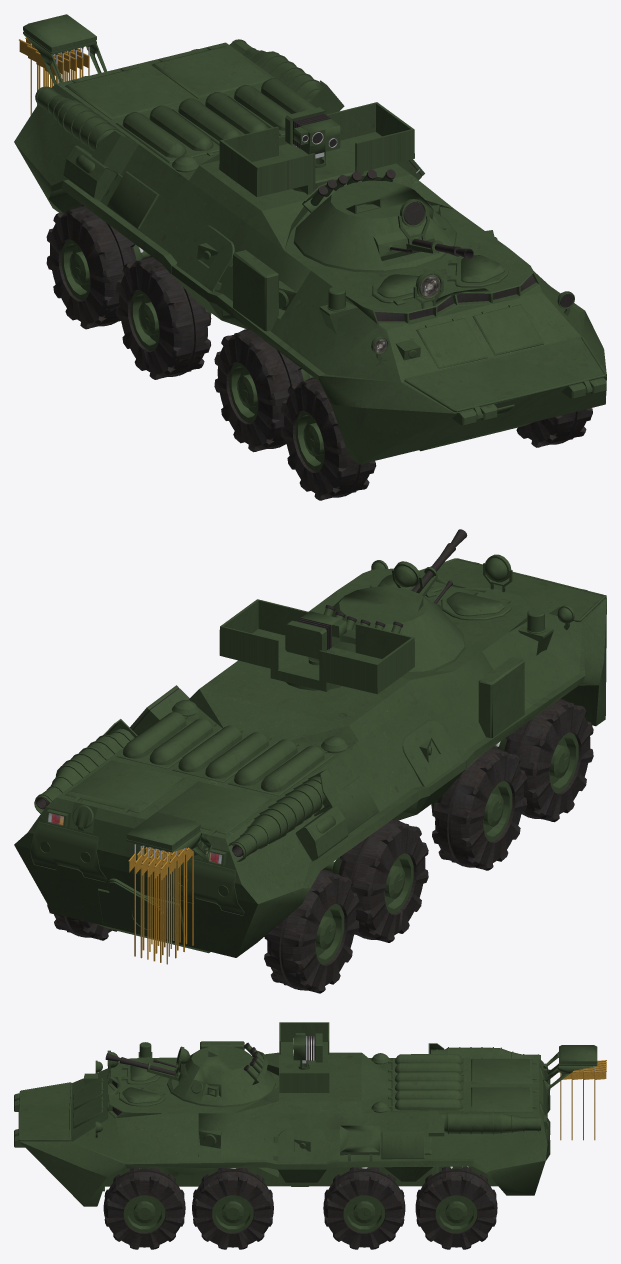
Rendered from btr80.glb.
The picture shows the model from 3 angles, top to bottom: view 1: azimuth 30°, elevation 25°; view 2: azimuth 150°, elevation 25°; view 3: azimuth 270°, elevation 25°; orthographic projection. The views are drawn at different scales.
Visible parts, largest first — view 1: Object_7, Object_16, Object_8, Object_17, Object_24, Object_25, Object_4, Object_2, Object_26, Object_6, Object_13, Object_9 (+7 smaller); view 2: Object_7, Object_16, Object_8, Object_17, Object_4, Object_23, Object_25, Object_6, Object_24, Object_9, Object_13, Object_11 (+8 smaller); view 3: Object_7, Object_17, Object_16, Object_13, Object_18, Object_24, Object_4, Object_25, Object_8, Object_6, Object_2, Object_20 (+7 smaller).
Boxes of the visible parts, x1,y1,x2,y2 form: Object_7: [14, 42, 606, 464]; Object_16: [46, 205, 211, 379]; Object_8: [219, 102, 414, 196]; Object_17: [214, 328, 591, 500]; Object_24: [293, 174, 456, 272]; Object_25: [65, 46, 270, 229]; Object_4: [115, 78, 316, 172]; Object_2: [404, 336, 606, 418]; Object_26: [372, 255, 543, 419]; Object_6: [35, 39, 344, 173]; Object_13: [61, 239, 324, 471]; Object_9: [63, 145, 424, 331]; Object_7: [14, 568, 606, 957]; Object_16: [264, 819, 428, 993]; Object_8: [219, 599, 414, 694]; Object_17: [47, 699, 593, 939]; Object_4: [116, 700, 348, 796]; Object_23: [30, 805, 244, 942]; Object_25: [65, 760, 379, 834]; Object_6: [34, 719, 344, 861]; Object_24: [329, 586, 465, 671]; Object_9: [130, 657, 524, 861]; Object_13: [315, 732, 578, 964]; Object_11: [128, 843, 193, 964]; Object_7: [14, 1052, 547, 1206]; Object_17: [103, 1166, 497, 1249]; Object_16: [192, 1167, 404, 1249]; Object_13: [123, 1195, 477, 1232]; Object_18: [103, 1166, 496, 1249]; Object_24: [167, 1043, 275, 1107]; Object_4: [371, 1053, 463, 1112]; Object_25: [381, 1059, 537, 1159]; Object_8: [279, 1022, 329, 1092]; Object_6: [428, 1043, 540, 1136]; Object_2: [14, 1082, 72, 1141]; Object_20: [273, 1128, 326, 1186].
Size of the model in its own units: 2.27 by 2.08 by 6.51.
20 materials, 19 textured.
